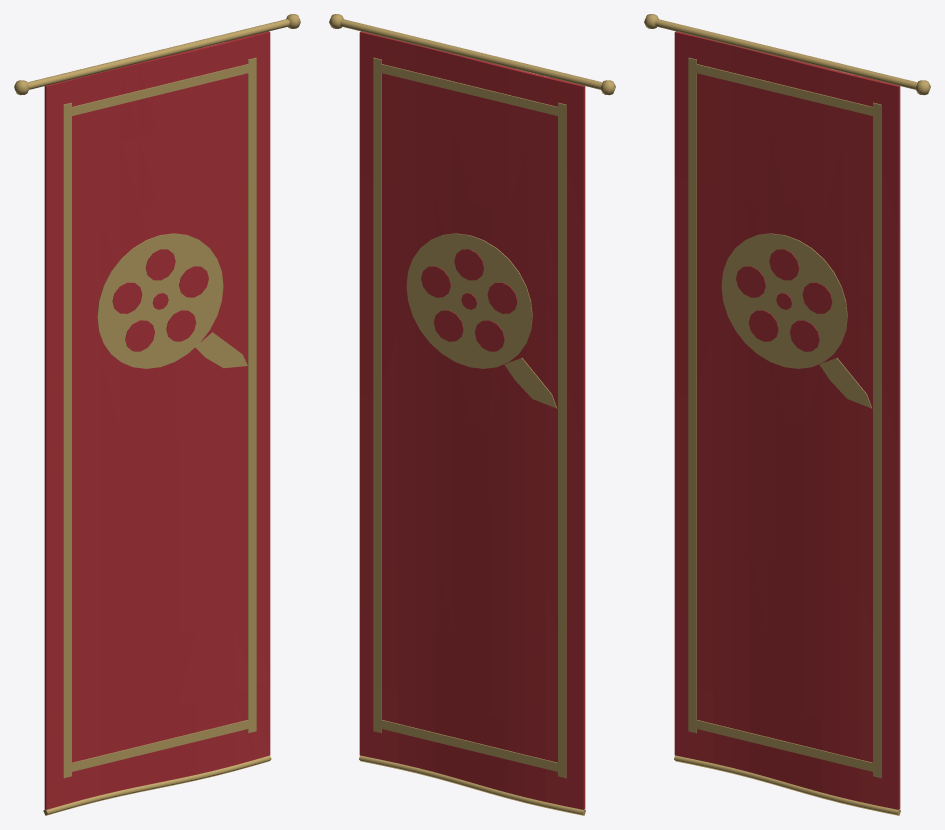
Rendered from banner.glb.
3 renders of one model, left to right at view 1: azimuth 30°, elevation 25°; view 2: azimuth 150°, elevation 25°; view 3: azimuth 330°, elevation 25°, orthographic.
Visible parts, largest first — view 1: velvet__banner__solid, brass__banner__ns, brass__banner__solid, velvet__banner__ns; view 2: velvet__banner__solid, brass__banner__ns, brass__banner__solid, velvet__banner__ns; view 3: velvet__banner__solid, brass__banner__ns, brass__banner__solid, velvet__banner__ns.
Part boxes in pixels (bbox=[...]): velvet__banner__solid: bbox=[44, 31, 270, 809]; brass__banner__ns: bbox=[63, 57, 256, 778]; brass__banner__solid: bbox=[14, 14, 300, 815]; velvet__banner__ns: bbox=[112, 249, 208, 351]; velvet__banner__solid: bbox=[359, 31, 585, 809]; brass__banner__ns: bbox=[373, 57, 566, 778]; brass__banner__solid: bbox=[329, 14, 615, 815]; velvet__banner__ns: bbox=[421, 249, 517, 351]; velvet__banner__solid: bbox=[674, 31, 900, 809]; brass__banner__ns: bbox=[688, 57, 881, 778]; brass__banner__solid: bbox=[644, 14, 930, 815]; velvet__banner__ns: bbox=[736, 249, 832, 351].
Size of the model in its own units: 2.04 by 5.07 by 0.1.
